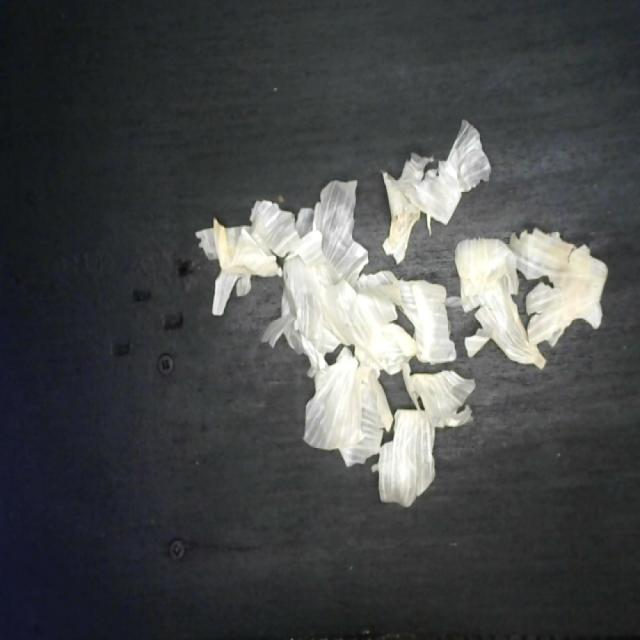biodegradable: (187, 117, 611, 509)
